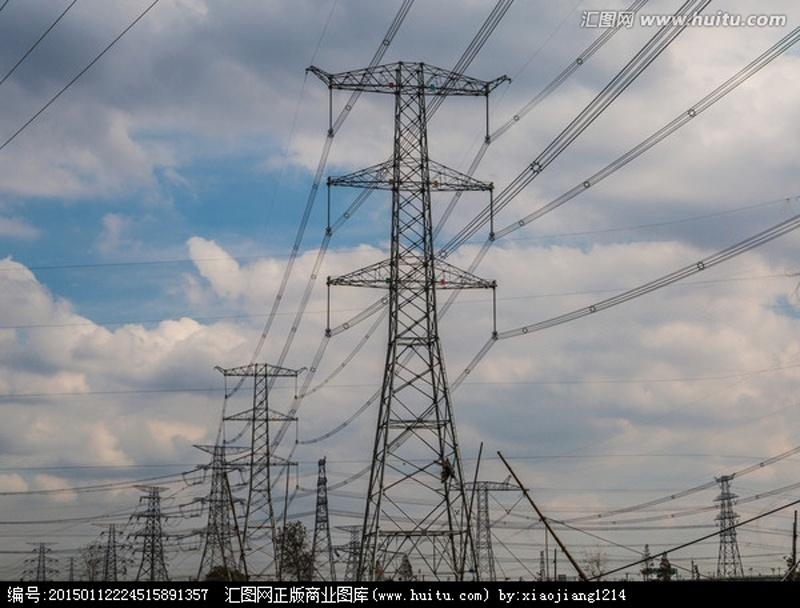power_tower: (298, 48, 527, 575), (208, 358, 314, 579), (704, 470, 755, 573), (127, 485, 180, 578), (87, 523, 130, 575), (23, 541, 60, 577)
